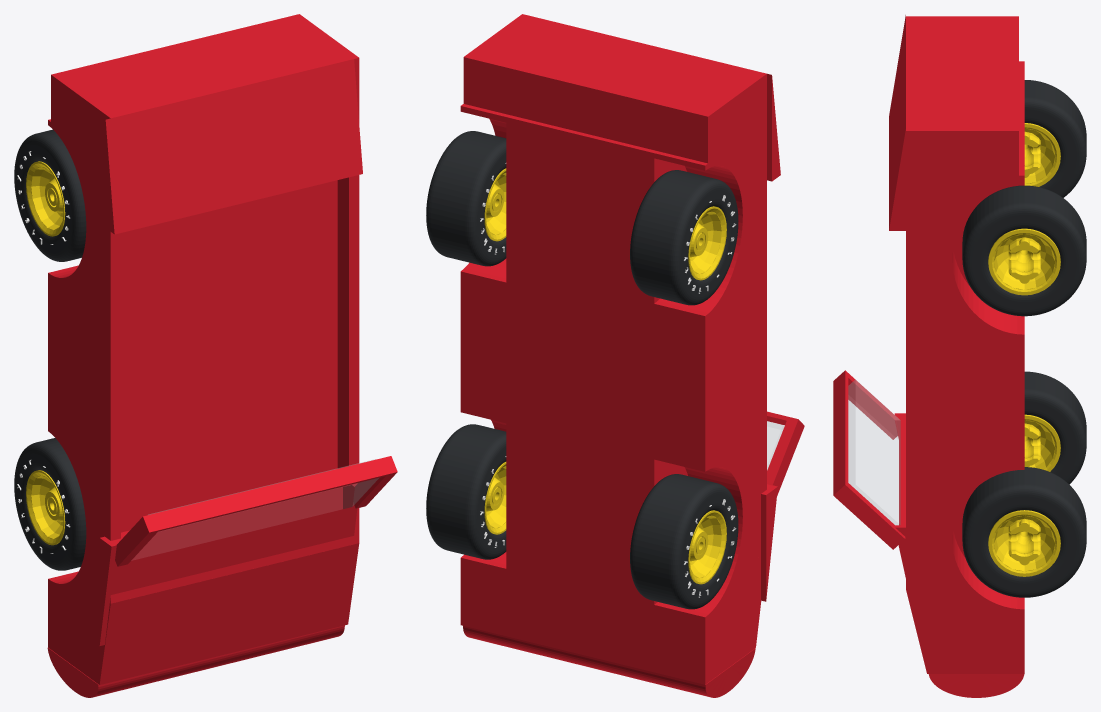
File: tinker.obj
3 views of the same model, side by side, from view 1: azimuth 30°, elevation 25°; view 2: azimuth 150°, elevation 25°; view 3: azimuth 270°, elevation 25° (orthographic). The views are drawn at different scales.
Visible parts, largest first — view 1: group_0_15277357, group_0_2829873, group_0_-1025645852, group_0_16768282; view 2: group_0_15277357, group_0_2829873, group_0_16768282, group_0_16448250; view 3: group_0_15277357, group_0_2829873, group_0_16768282, group_0_-1025645852.
Boxes of the visible parts, left/top/right/bottom form: group_0_15277357: left=47, top=14, right=397, bottom=697; group_0_2829873: left=14, top=129, right=86, bottom=570; group_0_-1025645852: left=132, top=459, right=378, bottom=560; group_0_16768282: left=26, top=161, right=65, bottom=545; group_0_15277357: left=460, top=14, right=804, bottom=697; group_0_2829873: left=426, top=131, right=738, bottom=609; group_0_16768282: left=484, top=168, right=726, bottom=584; group_0_16448250: left=480, top=163, right=736, bottom=597; group_0_15277357: left=833, top=15, right=1024, bottom=697; group_0_2829873: left=962, top=80, right=1086, bottom=597; group_0_16768282: left=988, top=123, right=1060, bottom=576; group_0_-1025645852: left=848, top=379, right=900, bottom=524.
Bounding box in the file's own units: 50 × 111 × 44.86.
